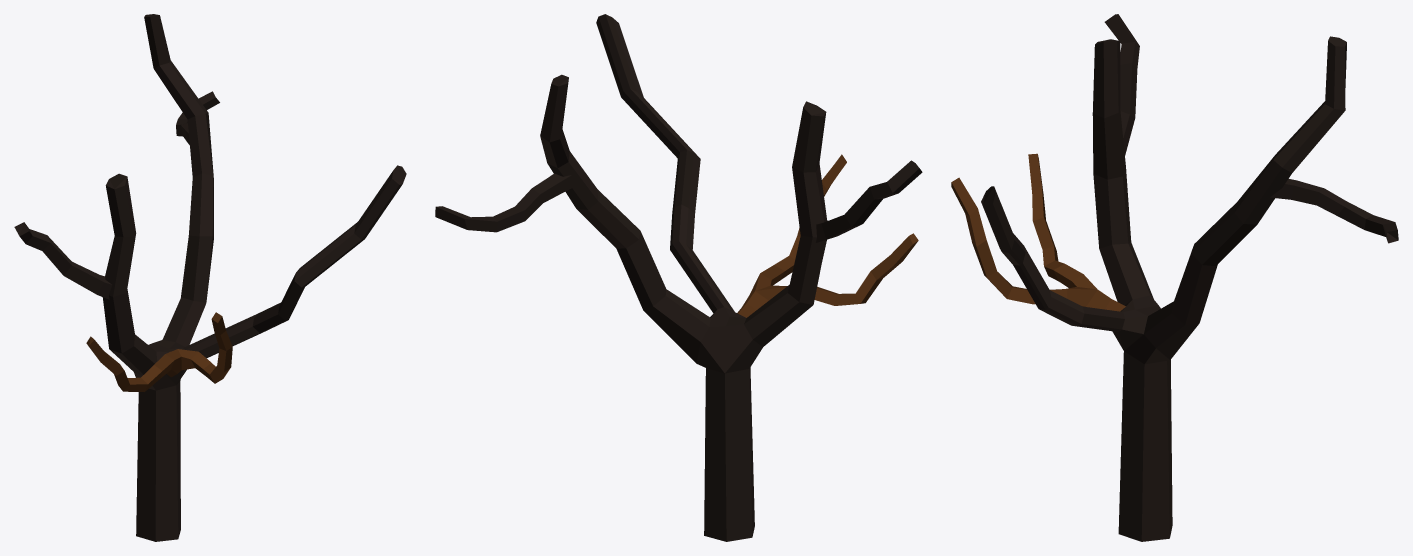
File: tronco2.FBX
3 renders of one model, left to right at view 1: azimuth 30°, elevation 25°; view 2: azimuth 150°, elevation 25°; view 3: azimuth 270°, elevation 25°, orthographic. The views are drawn at different scales.
Parts seen in each view (by area): view 1: Tree 2; view 2: Tree 2; view 3: Tree 2.
Boxes of the visible parts, x1,y1,x2,y2 form: Tree 2: [14, 14, 406, 541]; Tree 2: [435, 14, 922, 541]; Tree 2: [951, 14, 1398, 541].
Bounding box in the file's own units: 56.85 × 70.9 × 53.88.
